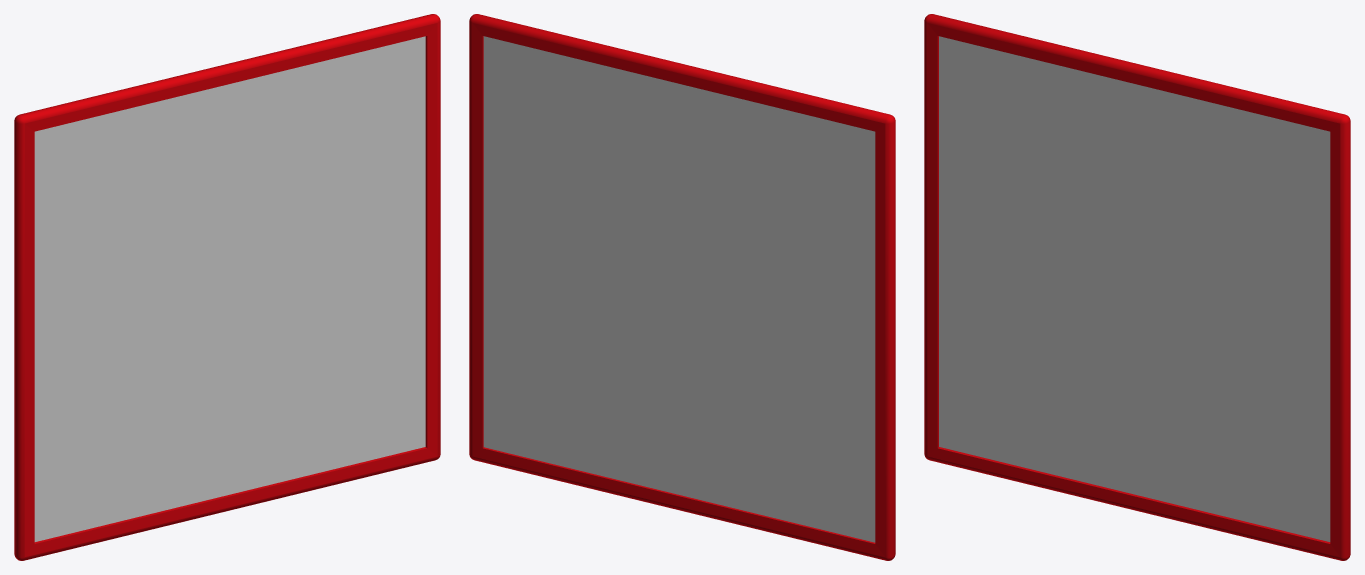
File: Wall_1_3_Frame.fbx
3 views of the same model, side by side, from view 1: azimuth 30°, elevation 25°; view 2: azimuth 150°, elevation 25°; view 3: azimuth 330°, elevation 25° (orthographic).
Visible parts, largest first — view 1: Wall_1_3, Wall_1_3_Frame; view 2: Wall_1_3, Wall_1_3_Frame; view 3: Wall_1_3, Wall_1_3_Frame.
Part boxes in pixels (x1=…): Wall_1_3: x1=34, y1=36, x2=425, y2=541; Wall_1_3_Frame: x1=14, y1=14, x2=440, y2=560; Wall_1_3: x1=483, y1=36, x2=875, y2=542; Wall_1_3_Frame: x1=469, y1=14, x2=895, y2=560; Wall_1_3: x1=939, y1=36, x2=1330, y2=541; Wall_1_3_Frame: x1=924, y1=14, x2=1350, y2=560.
Bounding box in the file's own units: 2.69 × 2.7 × 0.0785.
